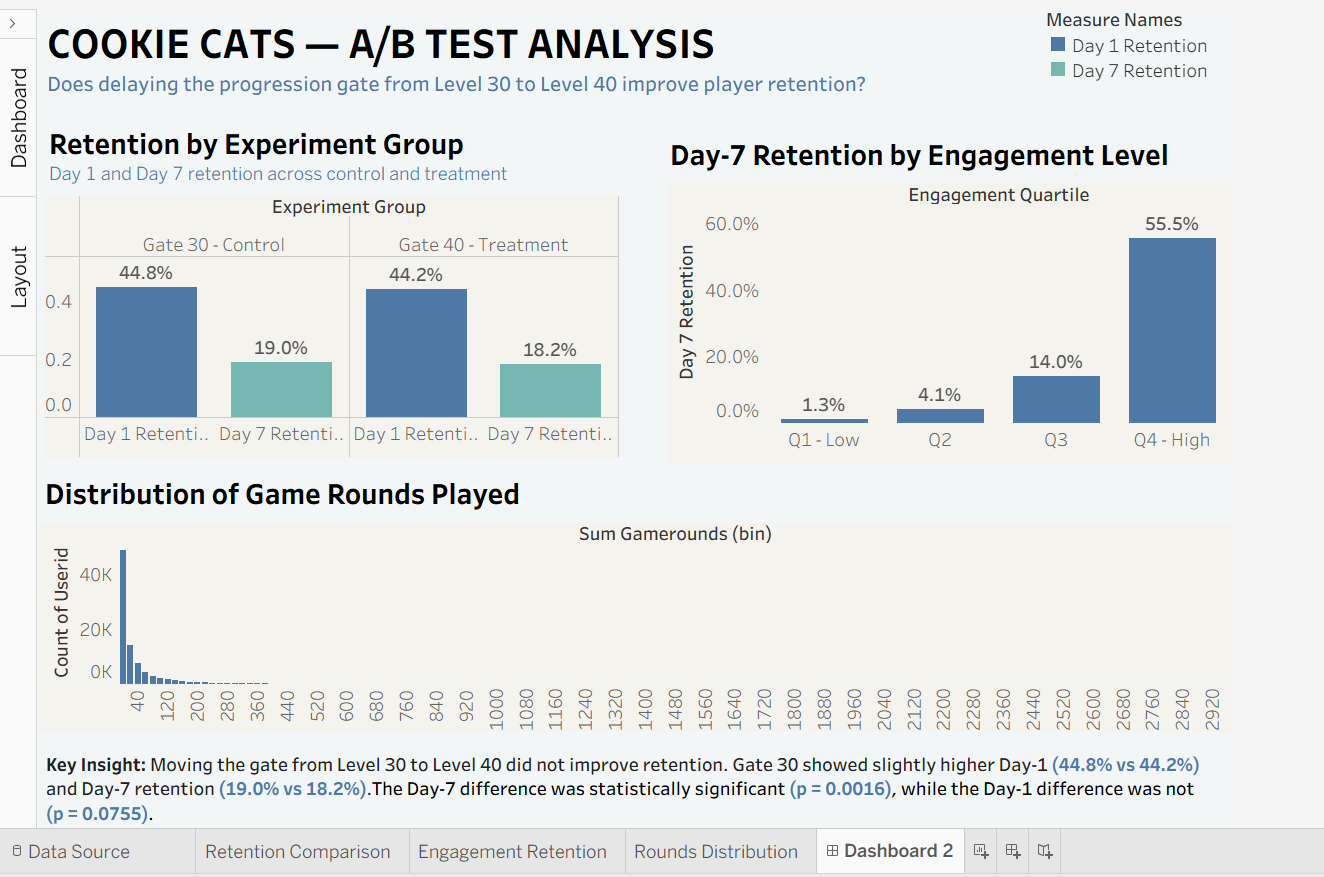

What the dashboard file says about the page in this screenshot:
{"tool":"tableau","page":{"name":"Dashboard 2","canvas":[1000,1000],"units":"permille","ordinal":0},"visuals":[{"type":"text","box":[5,1.2,793.3,142.9]},{"type":"worksheet","title":"Retention Comparison","mark":"Automatic","cols":["experiment_group"],"box":[6.7,135.5,478.3,412.7]},{"type":"worksheet","title":"Engagement Retention","mark":"Automatic","rows":["Calculation_1332658907320321"],"cols":["engagement_quartile"],"box":[524.2,149,470.8,405.4]},{"type":"worksheet","title":"Rounds Distribution","mark":"Automatic","rows":["userid"],"cols":["Sum Gamerounds (bin)"],"box":[3.3,562.9,991.7,319.9]},{"type":"text","box":[4.2,907.2,990,89.1]}]}

Visuals, with their boxes on the dashboard's canvas, which has no fixed pixel size, in thousandths of its width and height (x1, y1, x2, y2). These are canvas units, not pixel positions in the 1324x877 screenshot, which may show the page scaled, cropped or inside an application window:
text: locate(5, 1, 798, 144)
"Retention Comparison" worksheet: locate(7, 136, 485, 548)
"Engagement Retention" worksheet: locate(524, 149, 995, 554)
"Rounds Distribution" worksheet: locate(3, 563, 995, 883)
text: locate(4, 907, 994, 996)
